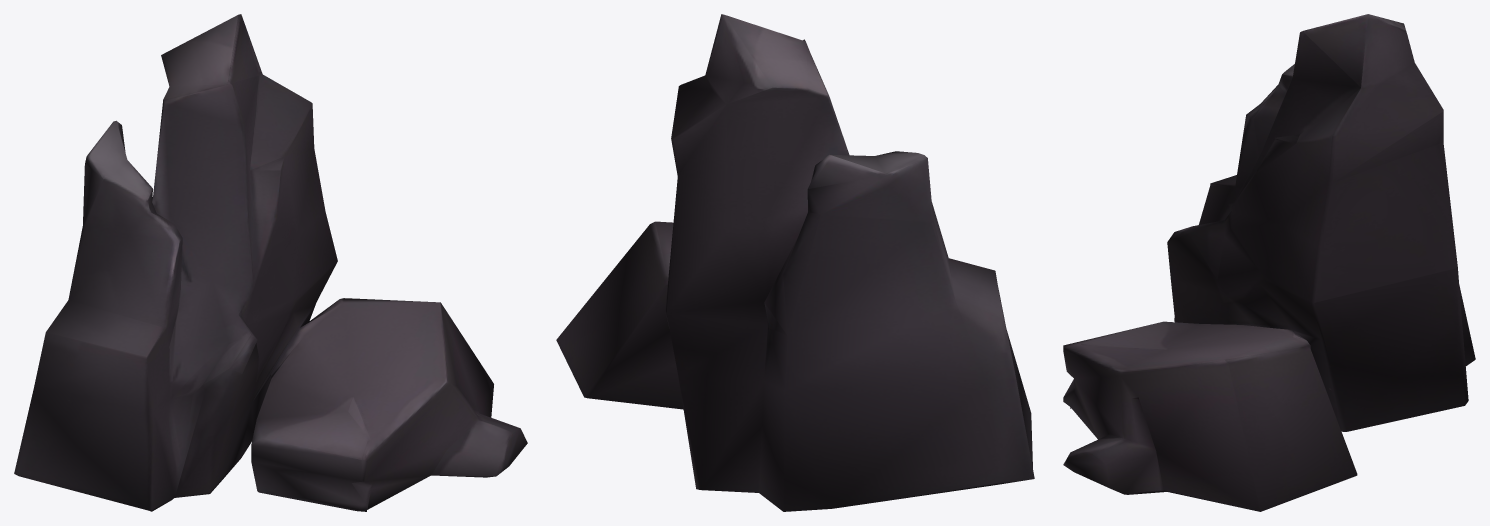
The picture shows the model from 3 angles, left to right: view 1: azimuth 30°, elevation 25°; view 2: azimuth 150°, elevation 25°; view 3: azimuth 270°, elevation 25°; orthographic projection. The views are drawn at different scales.
Visible parts, largest first — view 1: volcano-rock-3; view 2: volcano-rock-3; view 3: volcano-rock-3.
Part boxes in pixels (x1,y1,x2,y2): volcano-rock-3: [14, 14, 527, 511]; volcano-rock-3: [556, 14, 1034, 511]; volcano-rock-3: [1063, 14, 1475, 511].
Bounding box in the file's own units: 0.5096 × 0.4168 × 0.3855.
Materials: 1 (1 with a texture image).
